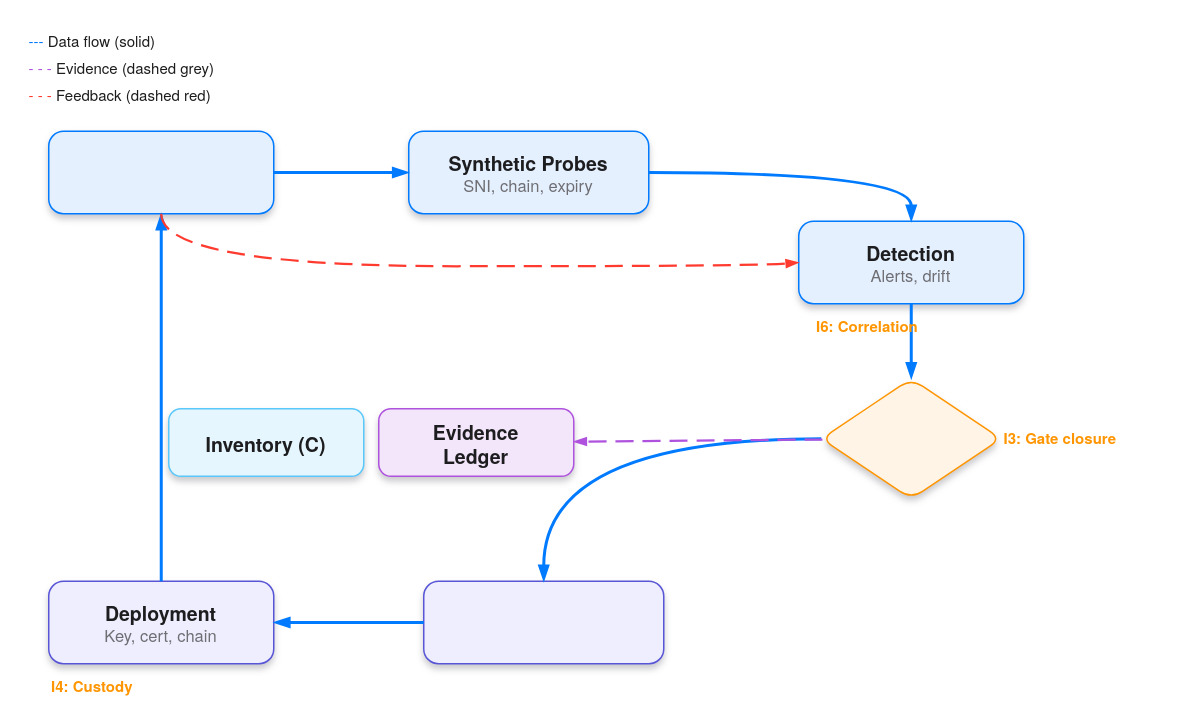
This 1191x723 diagram has some shape labels left out. The shapes that lost their labels are listed below. From the top down, each one's centre as x and y in pixels, then its label:
At point (160, 174): "Runtime State TLS endpoints".
At point (910, 440): "Gate Eval".
At point (543, 624): "State Transition Lifecycle machine".
